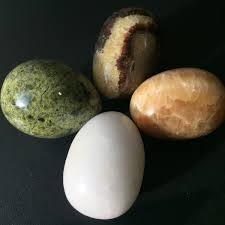egg: (58, 106, 150, 217)
stone: (1, 55, 105, 141), (93, 1, 174, 102), (126, 62, 225, 141)
